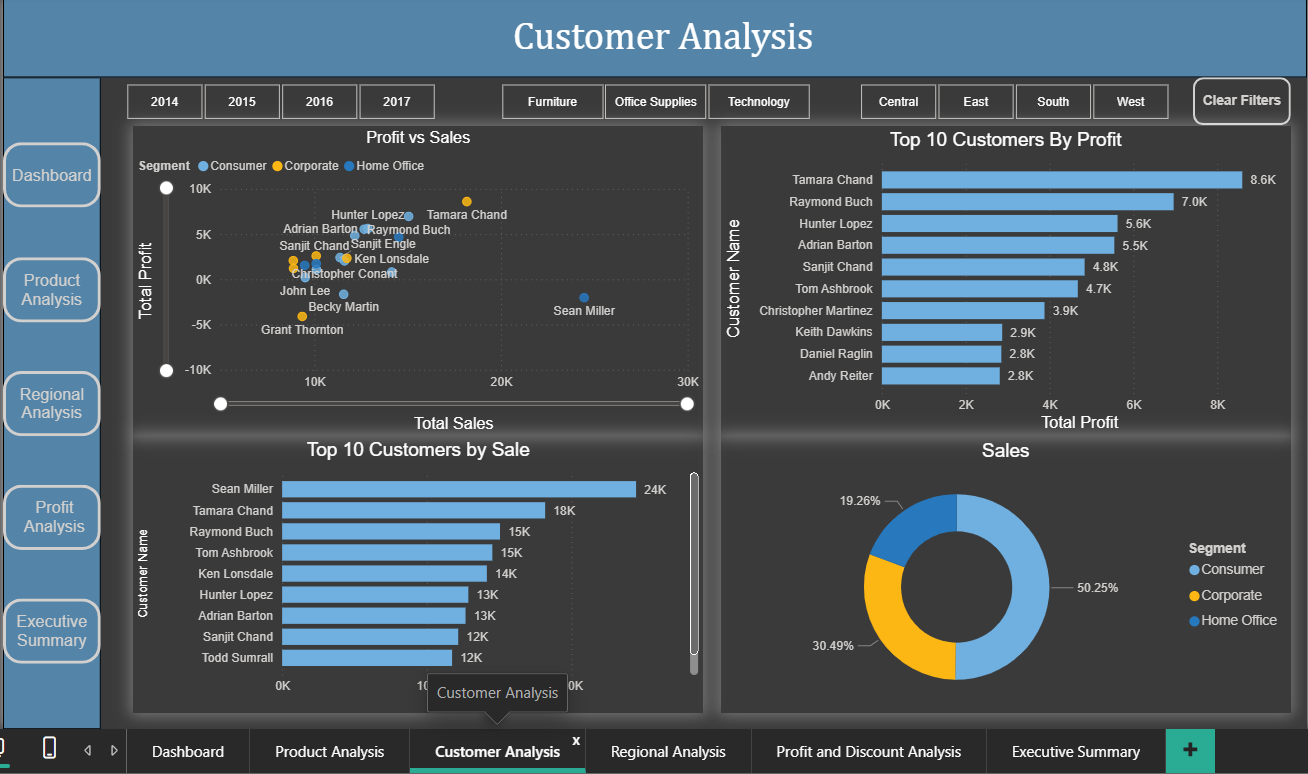

The dashboard page shown, as its layout file describes it:
{"tool":"powerbi","page":{"name":"Customer Analysis","canvas":[1280,720],"ordinal":2},"visuals":[{"type":"slicer","fields":{"Values":["Sample - Superstore.year"]},"box":[96,80,352,48],"z":0},{"type":"slicer","fields":{"Values":["Sample - Superstore.Category"]},"box":[464,80,352,48],"z":1000},{"type":"slicer","fields":{"Values":["Sample - Superstore.Region"]},"box":[816,80,352,48],"z":2000},{"type":"shape","box":[0,80,96,640],"z":3000},{"type":"actionButton","box":[0,144,96,64],"z":4000},{"type":"actionButton","box":[0,256,96,64],"z":5000},{"type":"actionButton","box":[0,368,96,64],"z":6000},{"type":"actionButton","box":[0,480,96,64],"z":7000},{"type":"shape","box":[0,0,1280,80],"z":8000},{"type":"actionButton","box":[1168,80,96,47],"z":9000},{"type":"textbox","box":[400,0,496,80],"z":10000},{"type":"donutChart","title":"Sales","fields":{"Y":["Sample - Superstore.Total Sales"],"Category":["Sample - Superstore.Segment"]},"box":[704,432,560,272],"z":11000},{"type":"clusteredBarChart","title":"Top 10 Customers by Sale","fields":{"Category":["Sample - Superstore.Customer Name"],"Y":["Sample - Superstore.Total Sales"]},"box":[128,432,560,272],"z":12000},{"type":"clusteredBarChart","title":"Top 10 Customers By Profit","fields":{"Category":["Sample - Superstore.Customer Name"],"Y":["Sample - Superstore.Total Profit"]},"box":[704,128,560,304],"z":13000},{"type":"scatterChart","title":"Profit vs Sales","fields":{"X":["Sample - Superstore.Total Sales"],"Y":["Sample - Superstore.Total Profit"],"Series":["Sample - Superstore.Segment"],"Category":["Sample - Superstore.Customer Name"]},"box":[128,128,560,304],"z":14000},{"type":"actionButton","box":[0,592,96,64],"z":14001}]}

Visuals, with their boxes on the page's 1280x720 design canvas (x1, y1, x2, y2). These are canvas units, not pixel positions in the 1308x774 screenshot, which may show the page scaled, cropped or inside an application window:
slicer - Sample - Superstore.year: left=96, top=80, right=448, bottom=128
slicer - Sample - Superstore.Category: left=464, top=80, right=816, bottom=128
slicer - Sample - Superstore.Region: left=816, top=80, right=1168, bottom=128
shape: left=0, top=80, right=96, bottom=720
actionButton: left=0, top=144, right=96, bottom=208
actionButton: left=0, top=256, right=96, bottom=320
actionButton: left=0, top=368, right=96, bottom=432
actionButton: left=0, top=480, right=96, bottom=544
shape: left=0, top=0, right=1280, bottom=80
actionButton: left=1168, top=80, right=1264, bottom=127
textbox: left=400, top=0, right=896, bottom=80
"Sales" donutChart: left=704, top=432, right=1264, bottom=704
"Top 10 Customers by Sale" clusteredBarChart: left=128, top=432, right=688, bottom=704
"Top 10 Customers By Profit" clusteredBarChart: left=704, top=128, right=1264, bottom=432
"Profit vs Sales" scatterChart: left=128, top=128, right=688, bottom=432
actionButton: left=0, top=592, right=96, bottom=656
